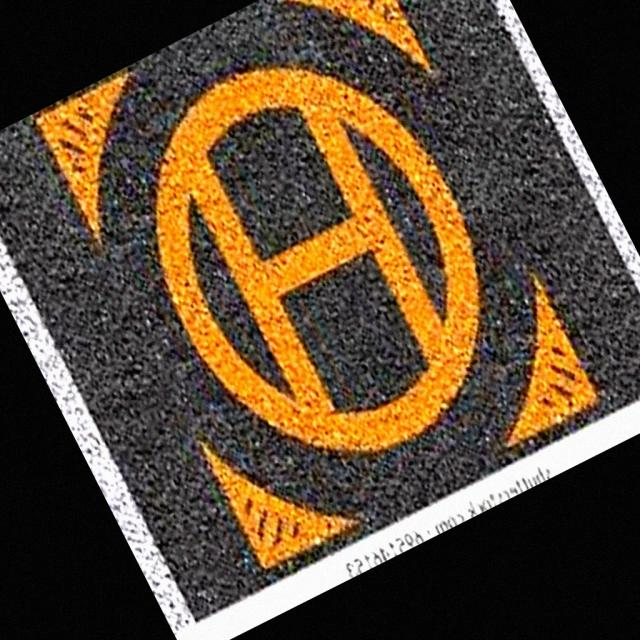helipad: (148, 60, 483, 460)
